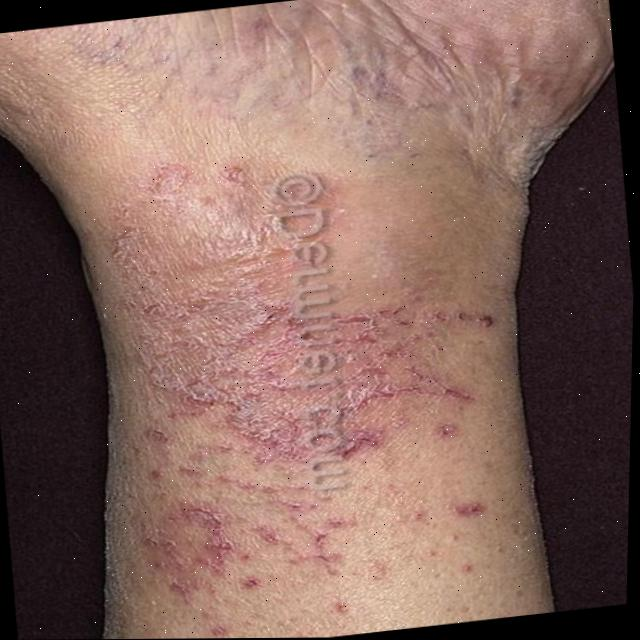Eczema: (97, 147, 516, 610)
